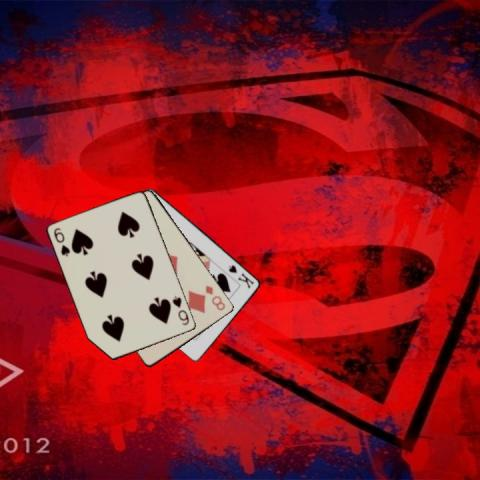6s: (169, 293, 191, 327), (51, 225, 72, 258)
8d: (202, 282, 227, 312)
Ks: (226, 262, 255, 290)
